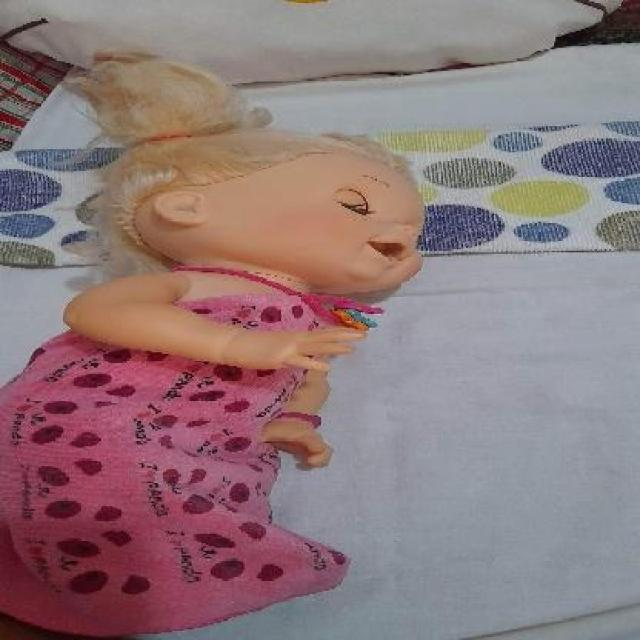non-dog: (0, 48, 428, 633)
